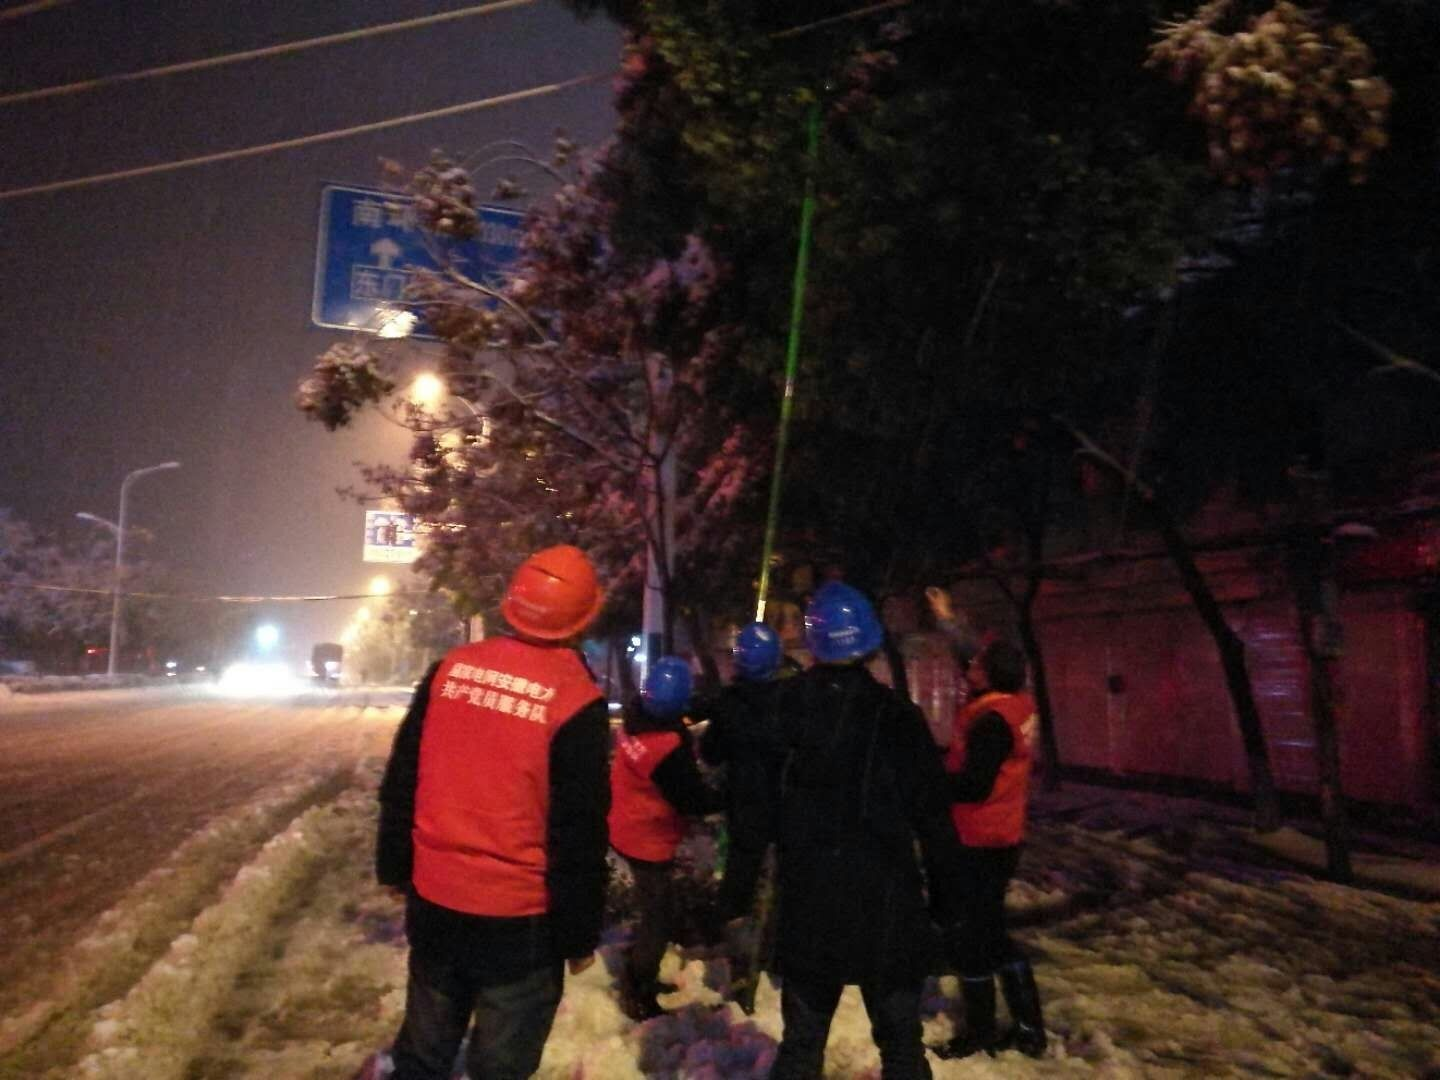blue: (798, 573, 882, 670), (637, 652, 694, 718), (730, 619, 780, 685)
none: (963, 628, 1023, 699)
red: (494, 545, 604, 656)
